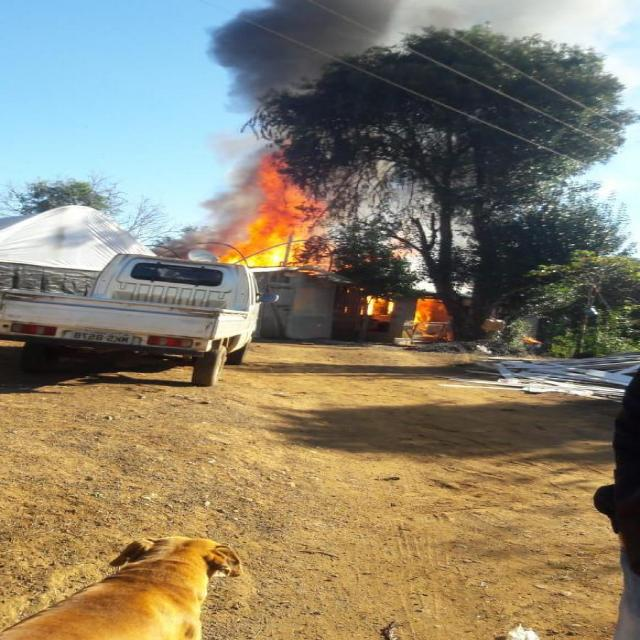fire: (204, 136, 348, 277)
